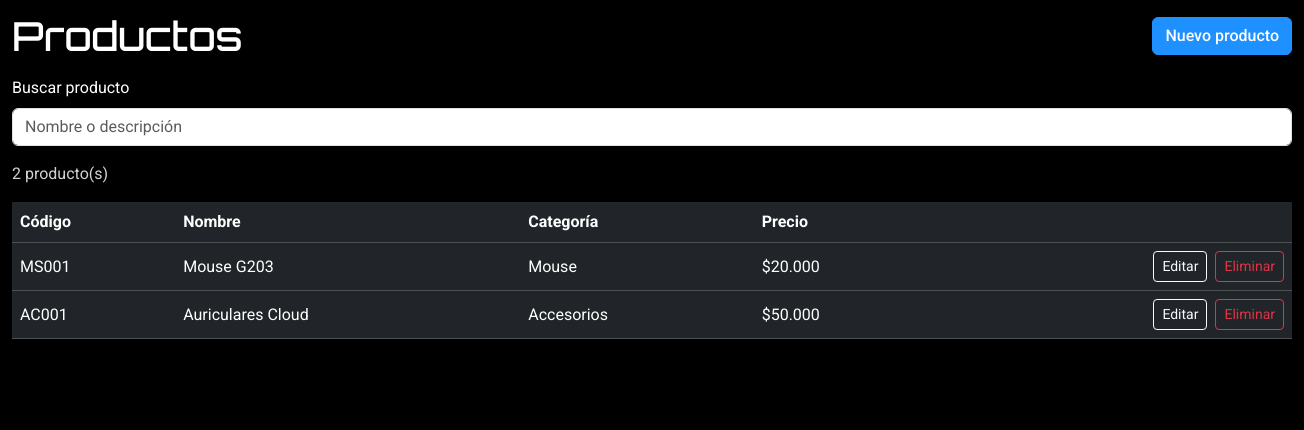
Test case: AdminProductosView › muestra el error si no se pudo eliminar
The width and height of the screenshot is (1304, 430).
Click the button with aria-label "Eliminar Mouse G203" at (1250, 266), box x1=1216 y1=251 x2=1284 y2=282
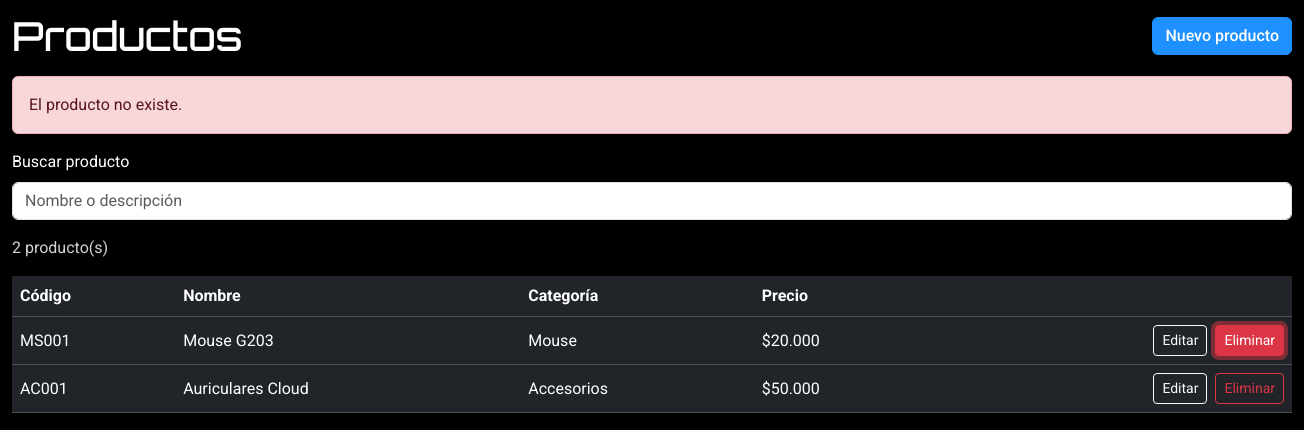
Check: the message reads "El producto no existe.", box x1=29 y1=95 x2=182 y2=114
